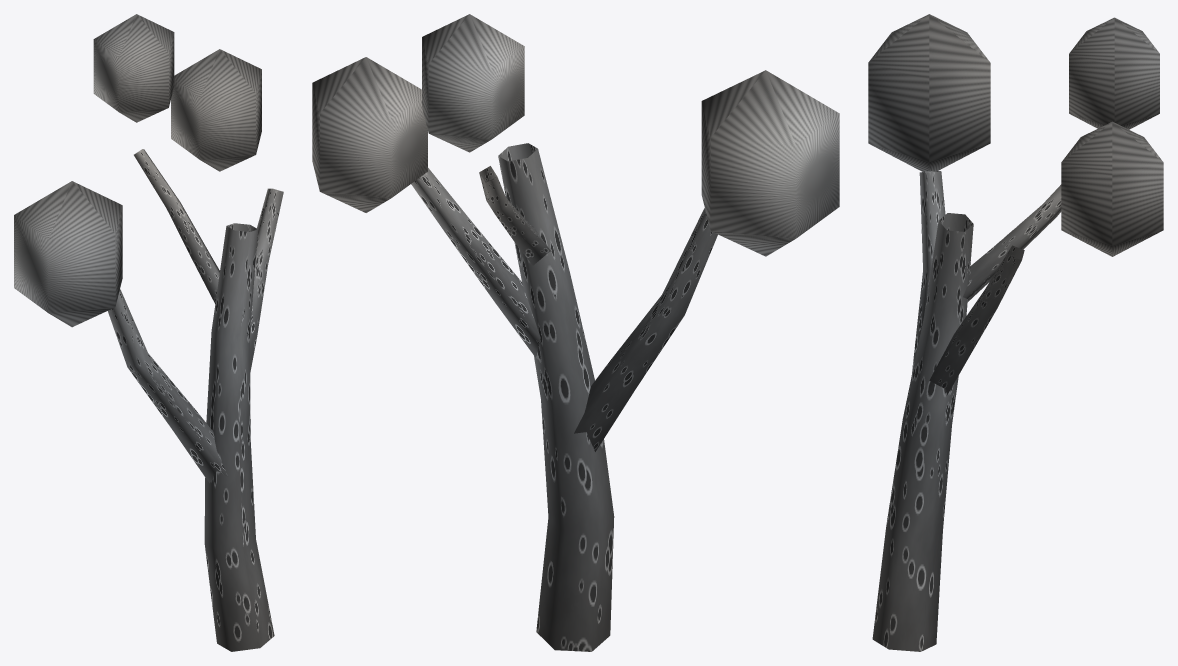
File: coral_tree_l1.gltf
The picture shows the model from 3 angles, left to right: view 1: azimuth 30°, elevation 25°; view 2: azimuth 150°, elevation 25°; view 3: azimuth 270°, elevation 25°; orthographic projection. The views are drawn at different scales.
Visible parts, largest first — view 1: coral_tree_l1; view 2: coral_tree_l1; view 3: coral_tree_l1.
Boxes of the visible parts, x1,y1,x2,y2 form: coral_tree_l1: (14, 14, 283, 651); coral_tree_l1: (312, 14, 839, 651); coral_tree_l1: (868, 14, 1163, 651).
Size of the model in its own units: 1.74 by 2.99 by 1.29.
Materials: 1 (1 with a texture image).
